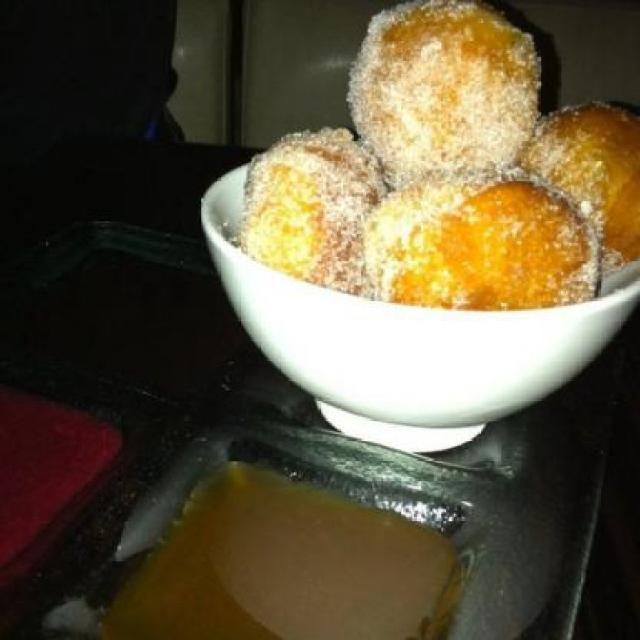Donuts: (223, 3, 640, 320)
